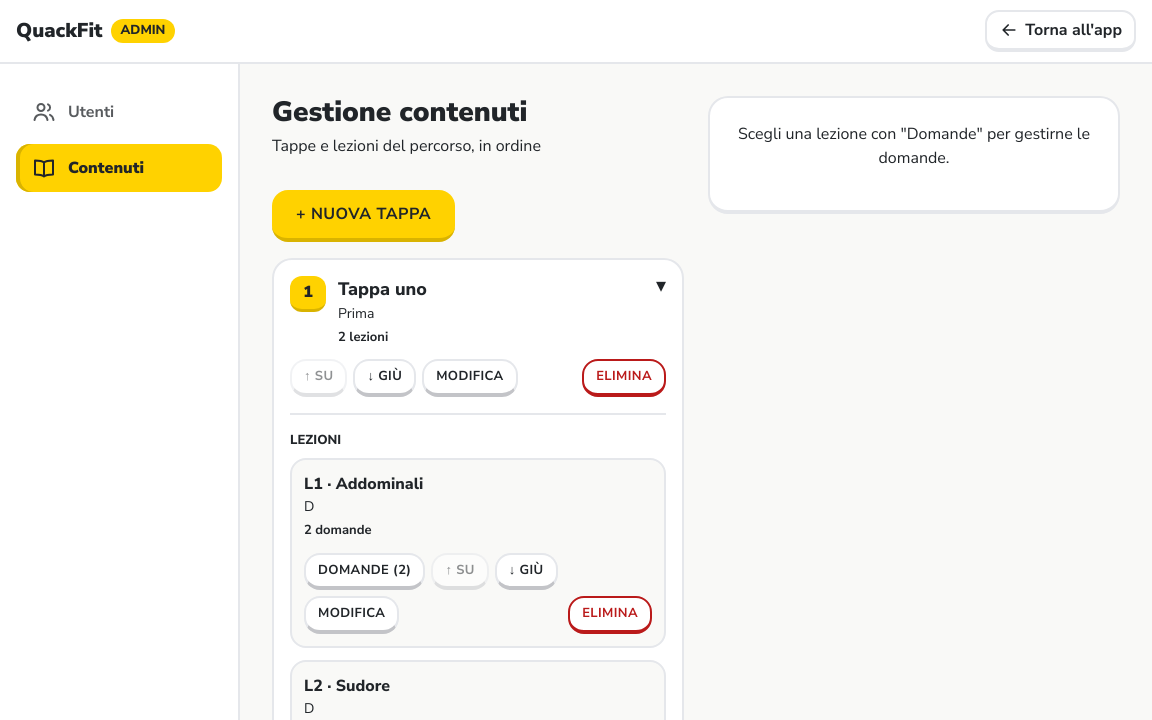
Test case: lezione scelta › all'avvio nessuna lezione; la scelta apre le sue domande con le soluzioni
This screenshot has width=1152, height=720.
expect the text "Scegli una lezione con \"Domande\" per gestirne le domande." is shown: met, box left=734, top=122, right=1094, bottom=170
Click the button with aria-label "Domande della lezione «Addominali»".
click(365, 571)  # box left=304, top=553, right=425, bottom=590
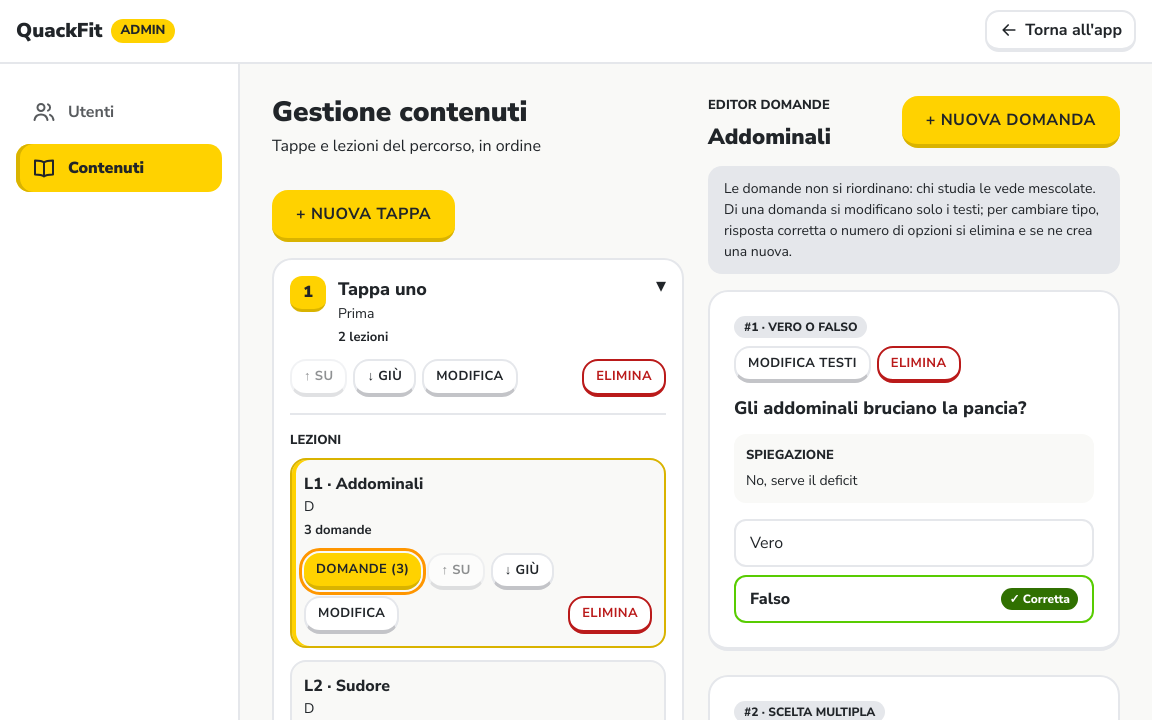
expect the heading "Addominali" is shown: met, box left=708, top=124, right=831, bottom=150
expect the list item "Falso" shows "Corretta": met, box left=1020, top=591, right=1070, bottom=607
expect the button with aria-label "Domande della lezione «Addominali»" reads "Domande (3)": met, box left=304, top=553, right=421, bottom=590
